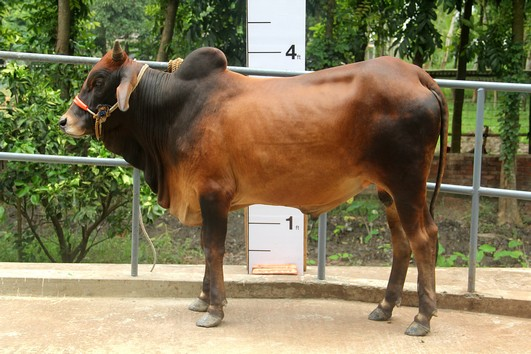cow: (58, 36, 457, 339)
